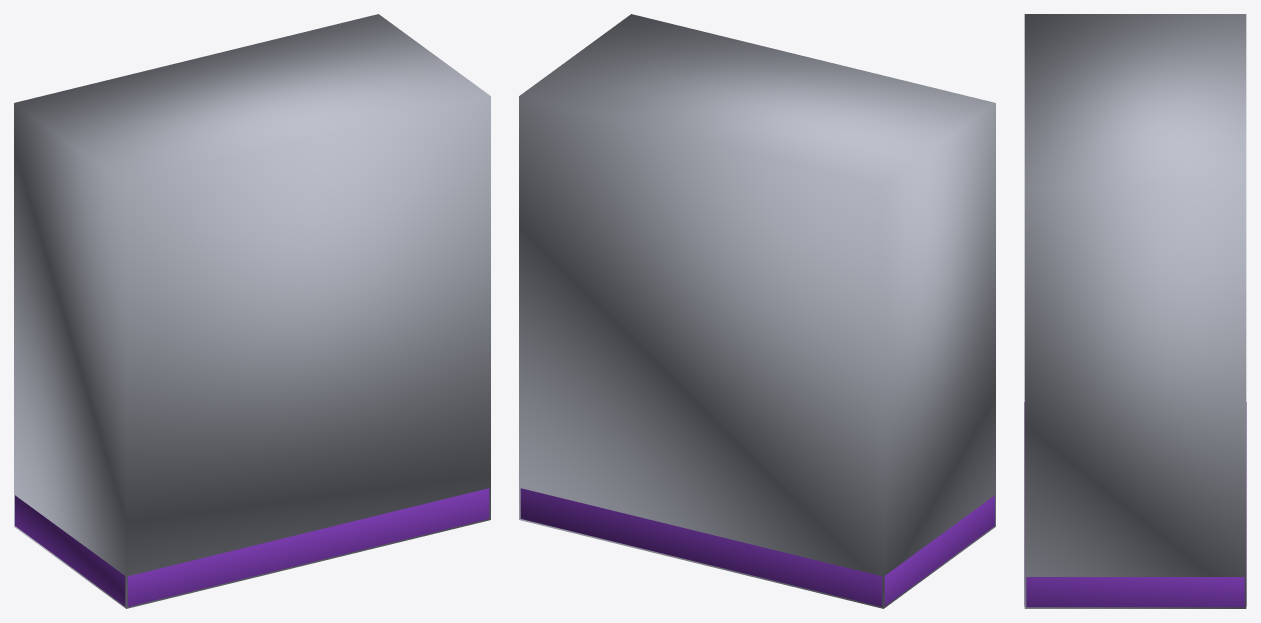
File: Tier_12.fbx
3 views of the same model, side by side, from view 1: azimuth 30°, elevation 25°; view 2: azimuth 150°, elevation 25°; view 3: azimuth 270°, elevation 25° (orthographic).
Parts seen in each view (by area): view 1: Root, Orbit; view 2: Root, Orbit; view 3: Root, Orbit.
Part boxes in pixels (x1=…): Root: x1=14, y1=14, x2=490, y2=608; Orbit: x1=15, y1=488, x2=489, y2=606; Root: x1=519, y1=14, x2=995, y2=608; Orbit: x1=520, y1=488, x2=994, y2=606; Root: x1=1024, y1=14, x2=1246, y2=608; Orbit: x1=1024, y1=402, x2=1246, y2=607.
Size of the model in its own units: 90 by 99.99 by 48.
